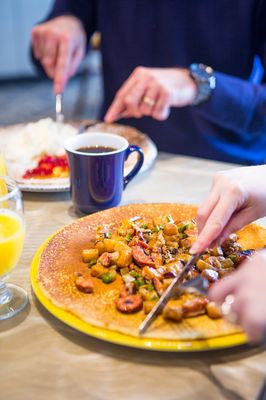pizza: (63, 133, 144, 215), (0, 175, 26, 280)
